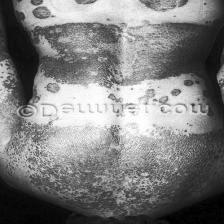Non-Cancerous Skin Condition: (19, 119, 214, 190), (39, 22, 203, 82), (130, 0, 196, 13), (70, 0, 118, 6)
